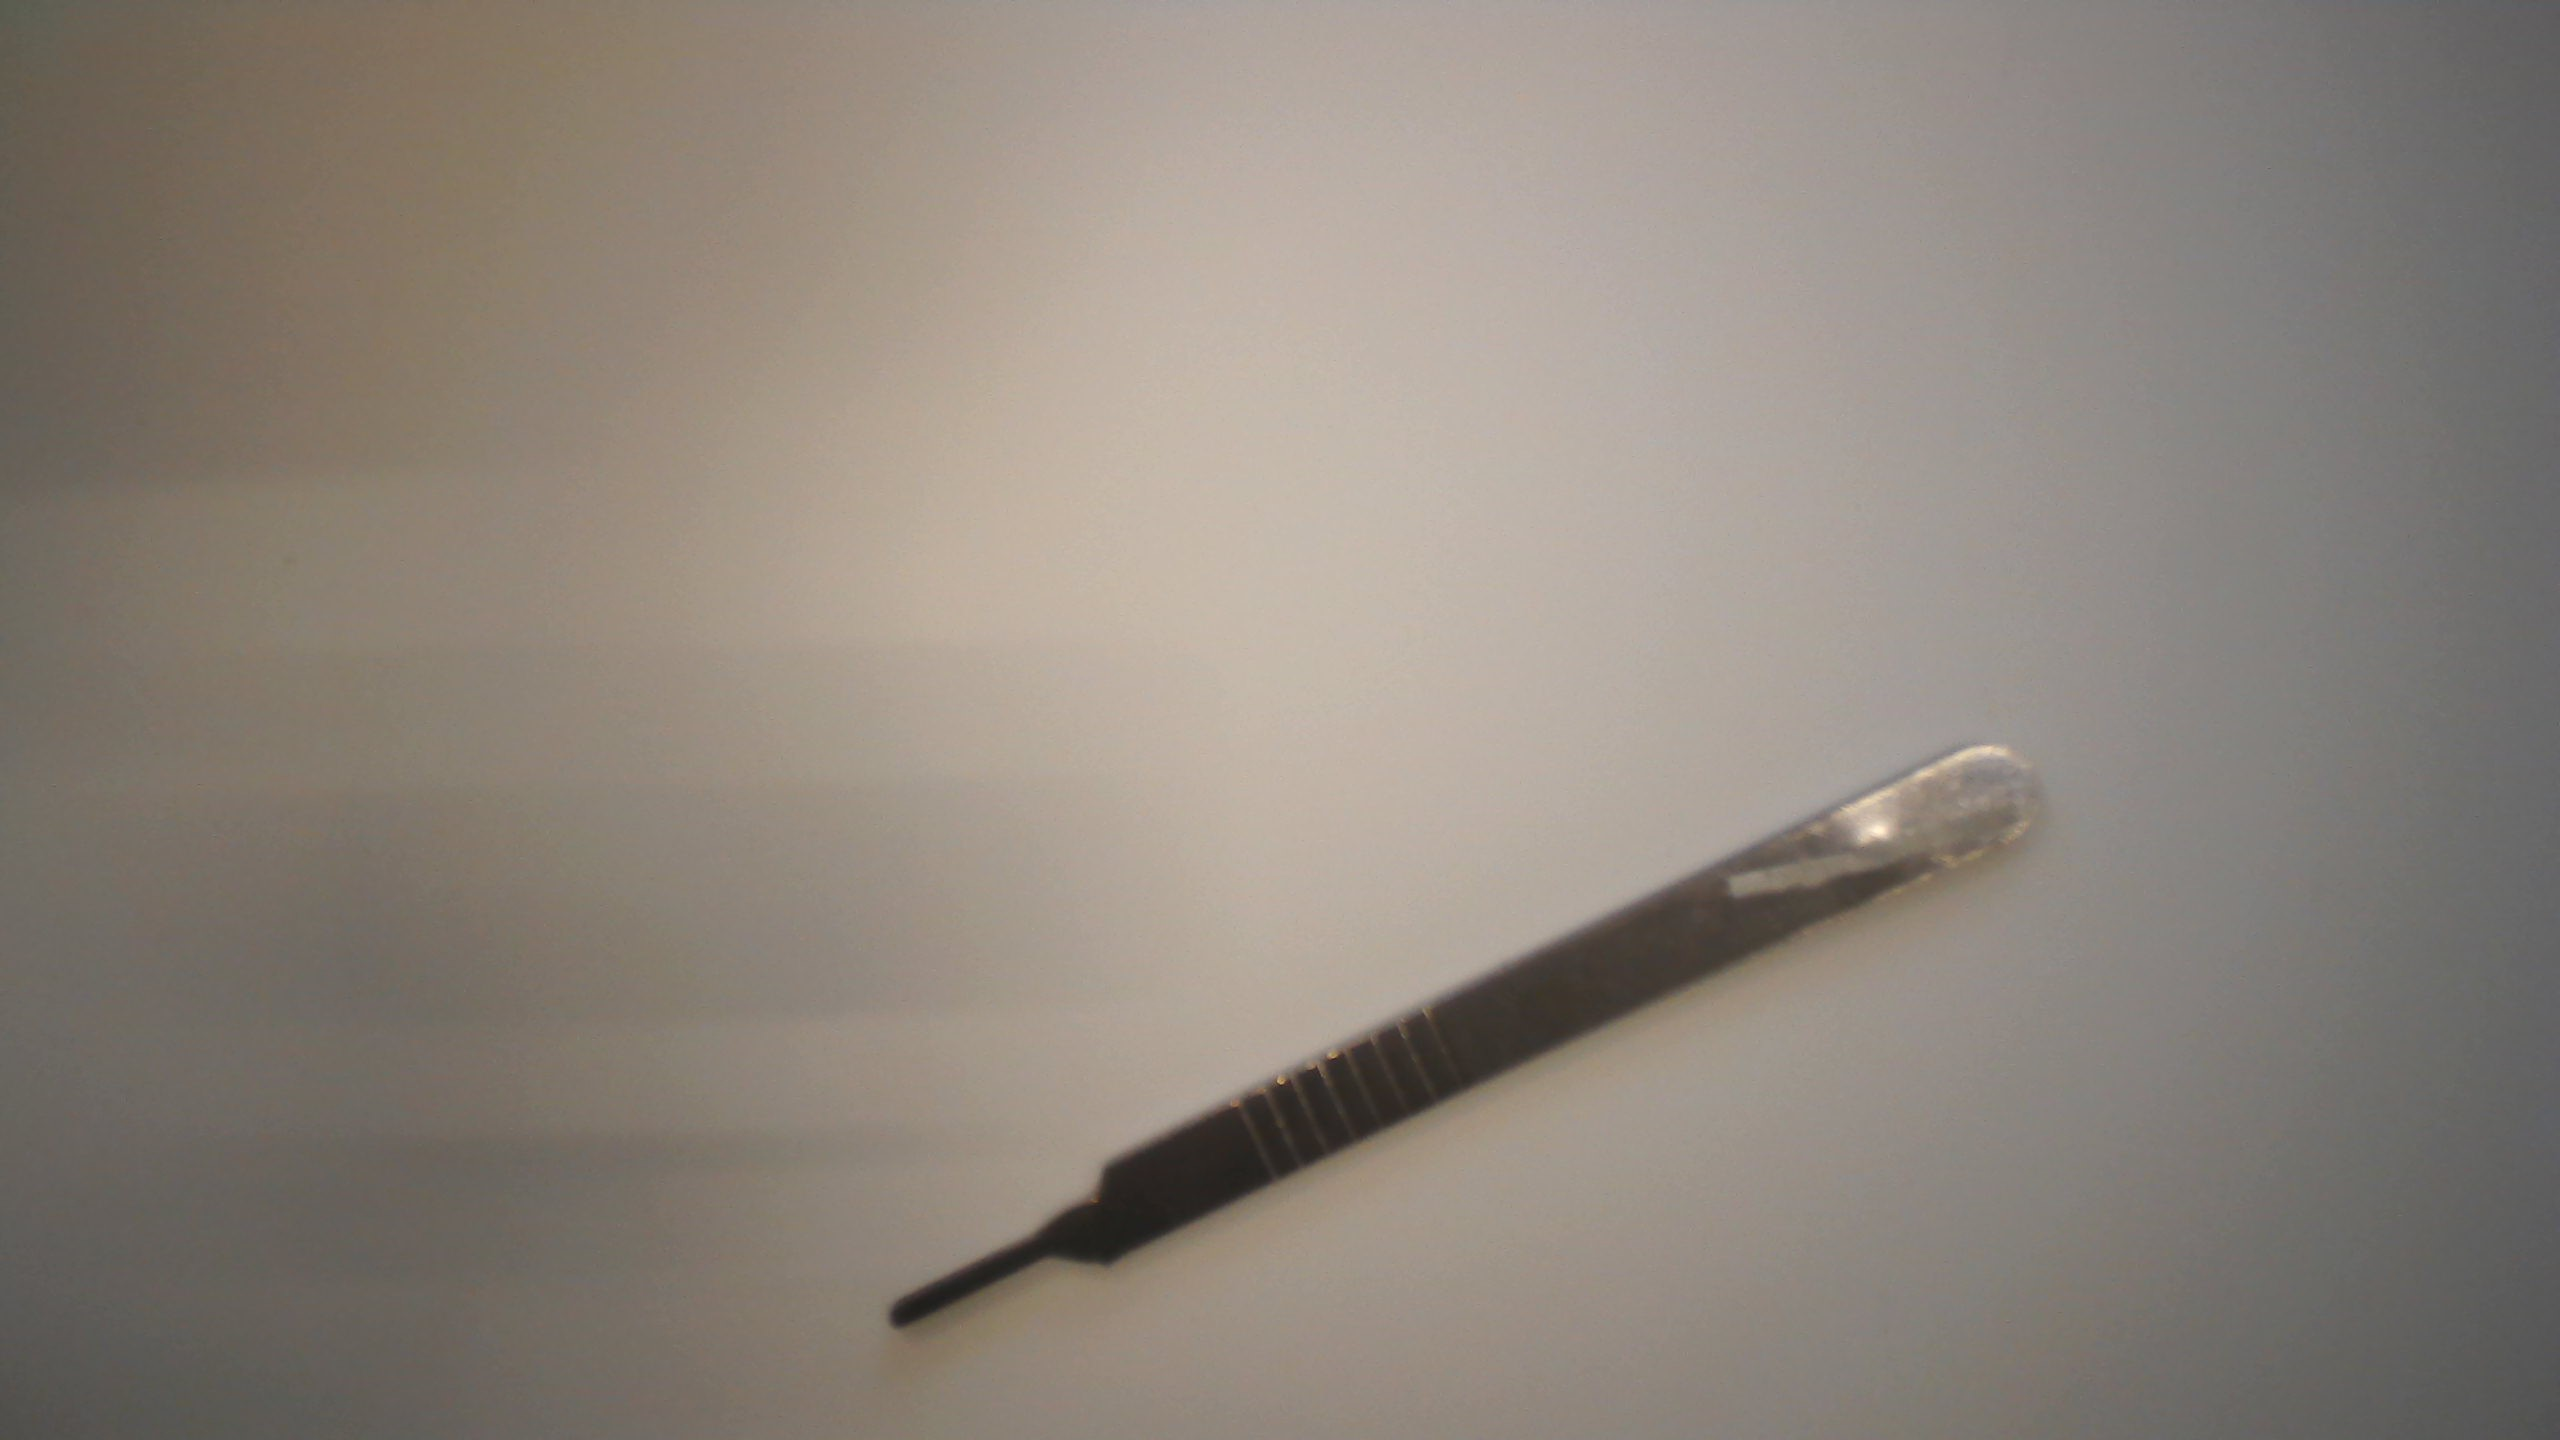Scratches: (1705, 798, 2031, 900)
